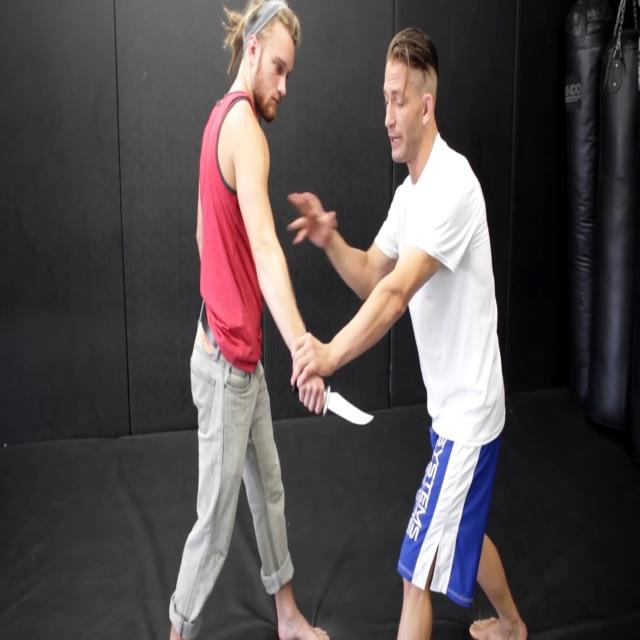knife: (326, 382, 376, 437)
